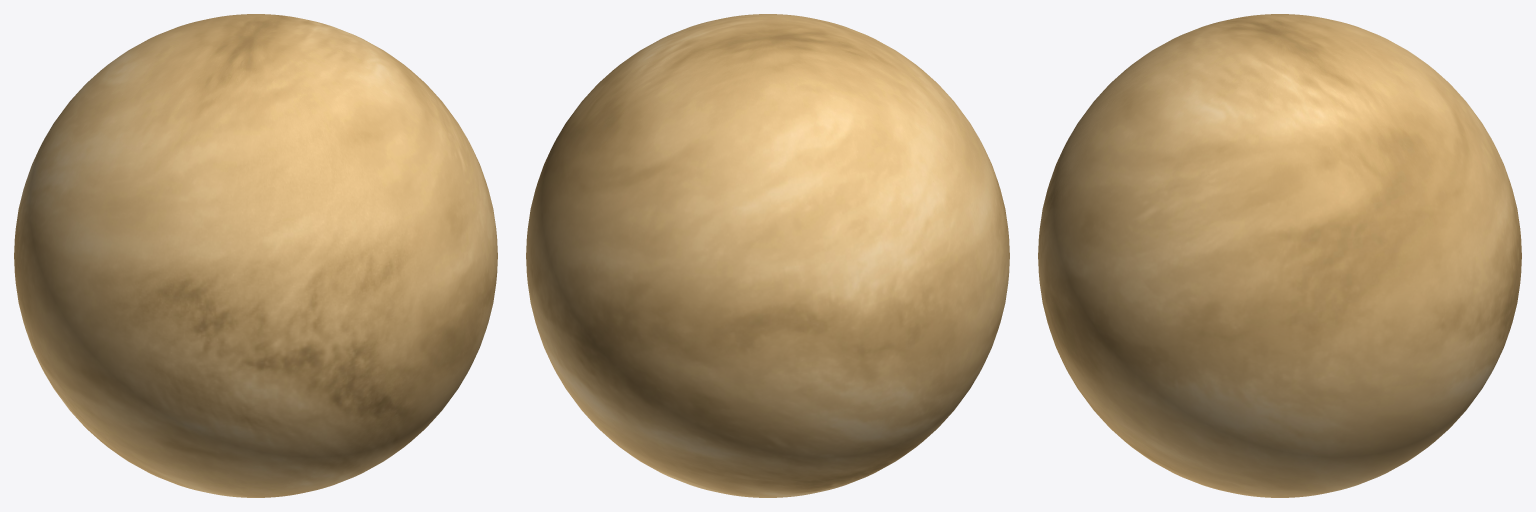
The model's file is venus.glb.
The picture shows the model from 3 angles, left to right: view 1: azimuth 30°, elevation 25°; view 2: azimuth 150°, elevation 25°; view 3: azimuth 270°, elevation 25°; orthographic projection.
Bounding box in the file's own units: 2 × 2 × 2.
1 material, 1 textured.
